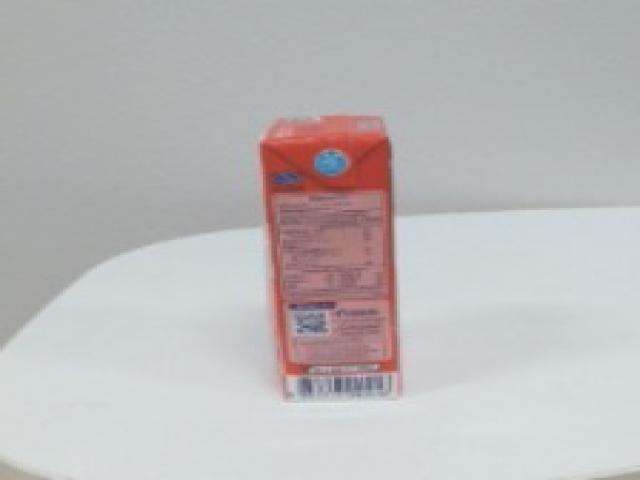drink_box: (237, 105, 426, 411)
